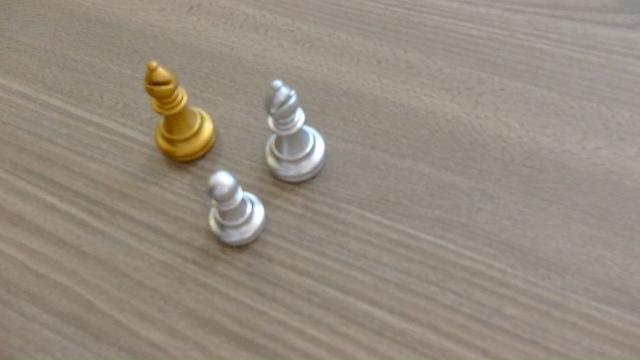black_bishop: (142, 59, 216, 159)
white_bishop: (261, 79, 326, 181)
white_pawn: (207, 170, 264, 245)
